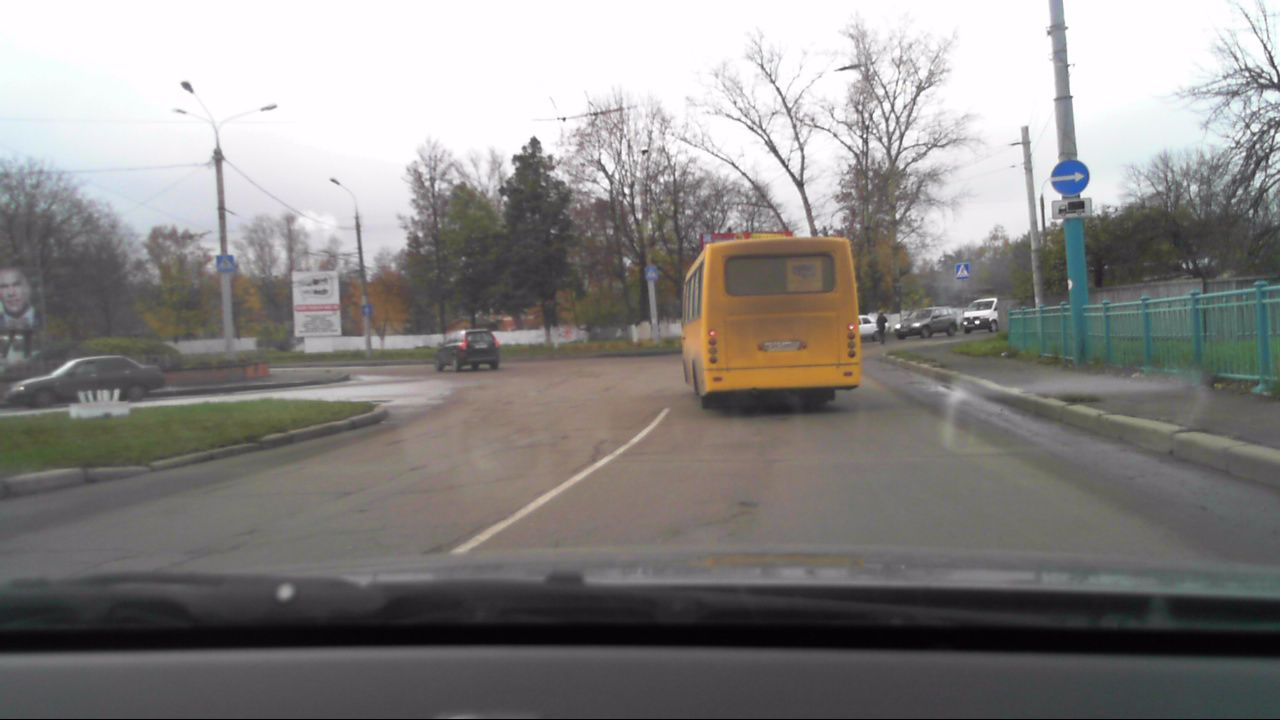Turn Right: (1050, 159, 1090, 195)
